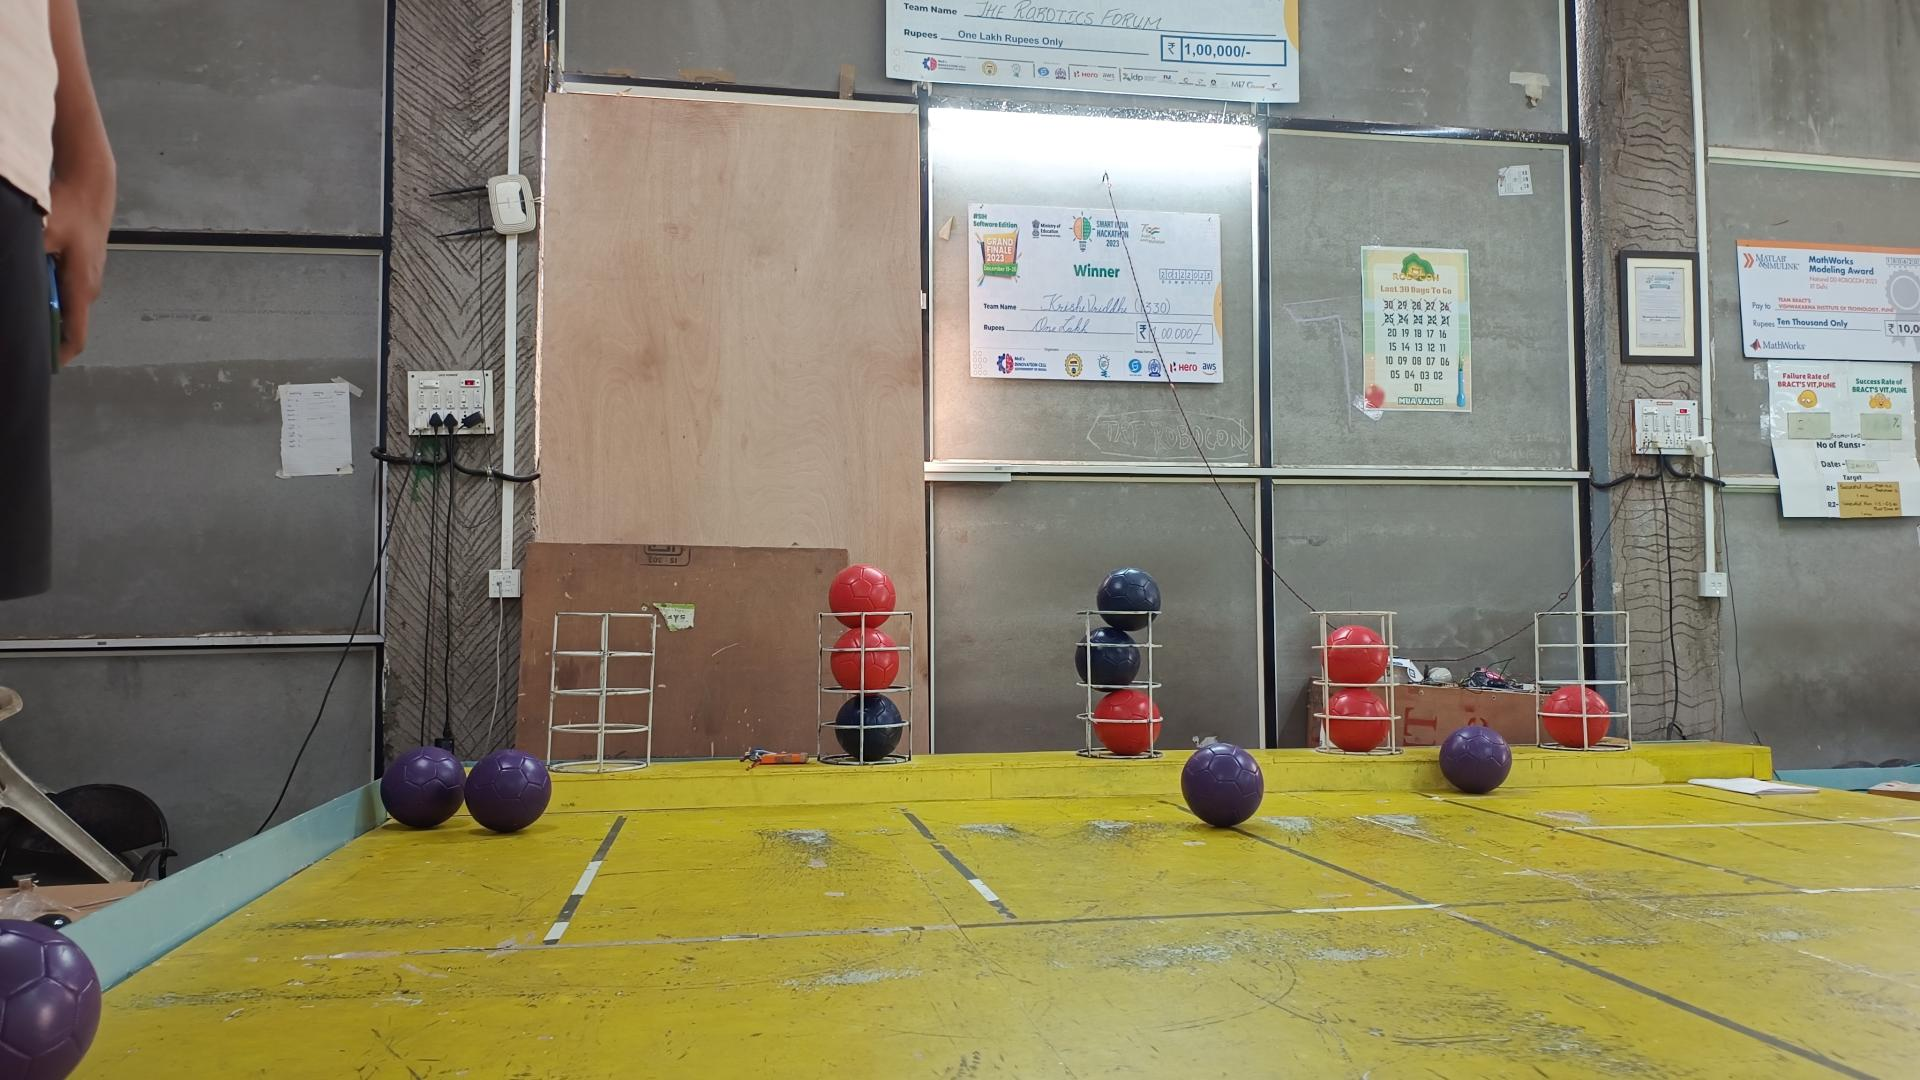dhoka: (836, 694, 903, 761), (1095, 566, 1163, 630), (1076, 626, 1139, 686)
laale: (1095, 690, 1163, 754), (828, 566, 897, 630), (1328, 690, 1391, 754), (1542, 686, 1609, 746), (832, 630, 899, 690), (1324, 626, 1387, 686)
